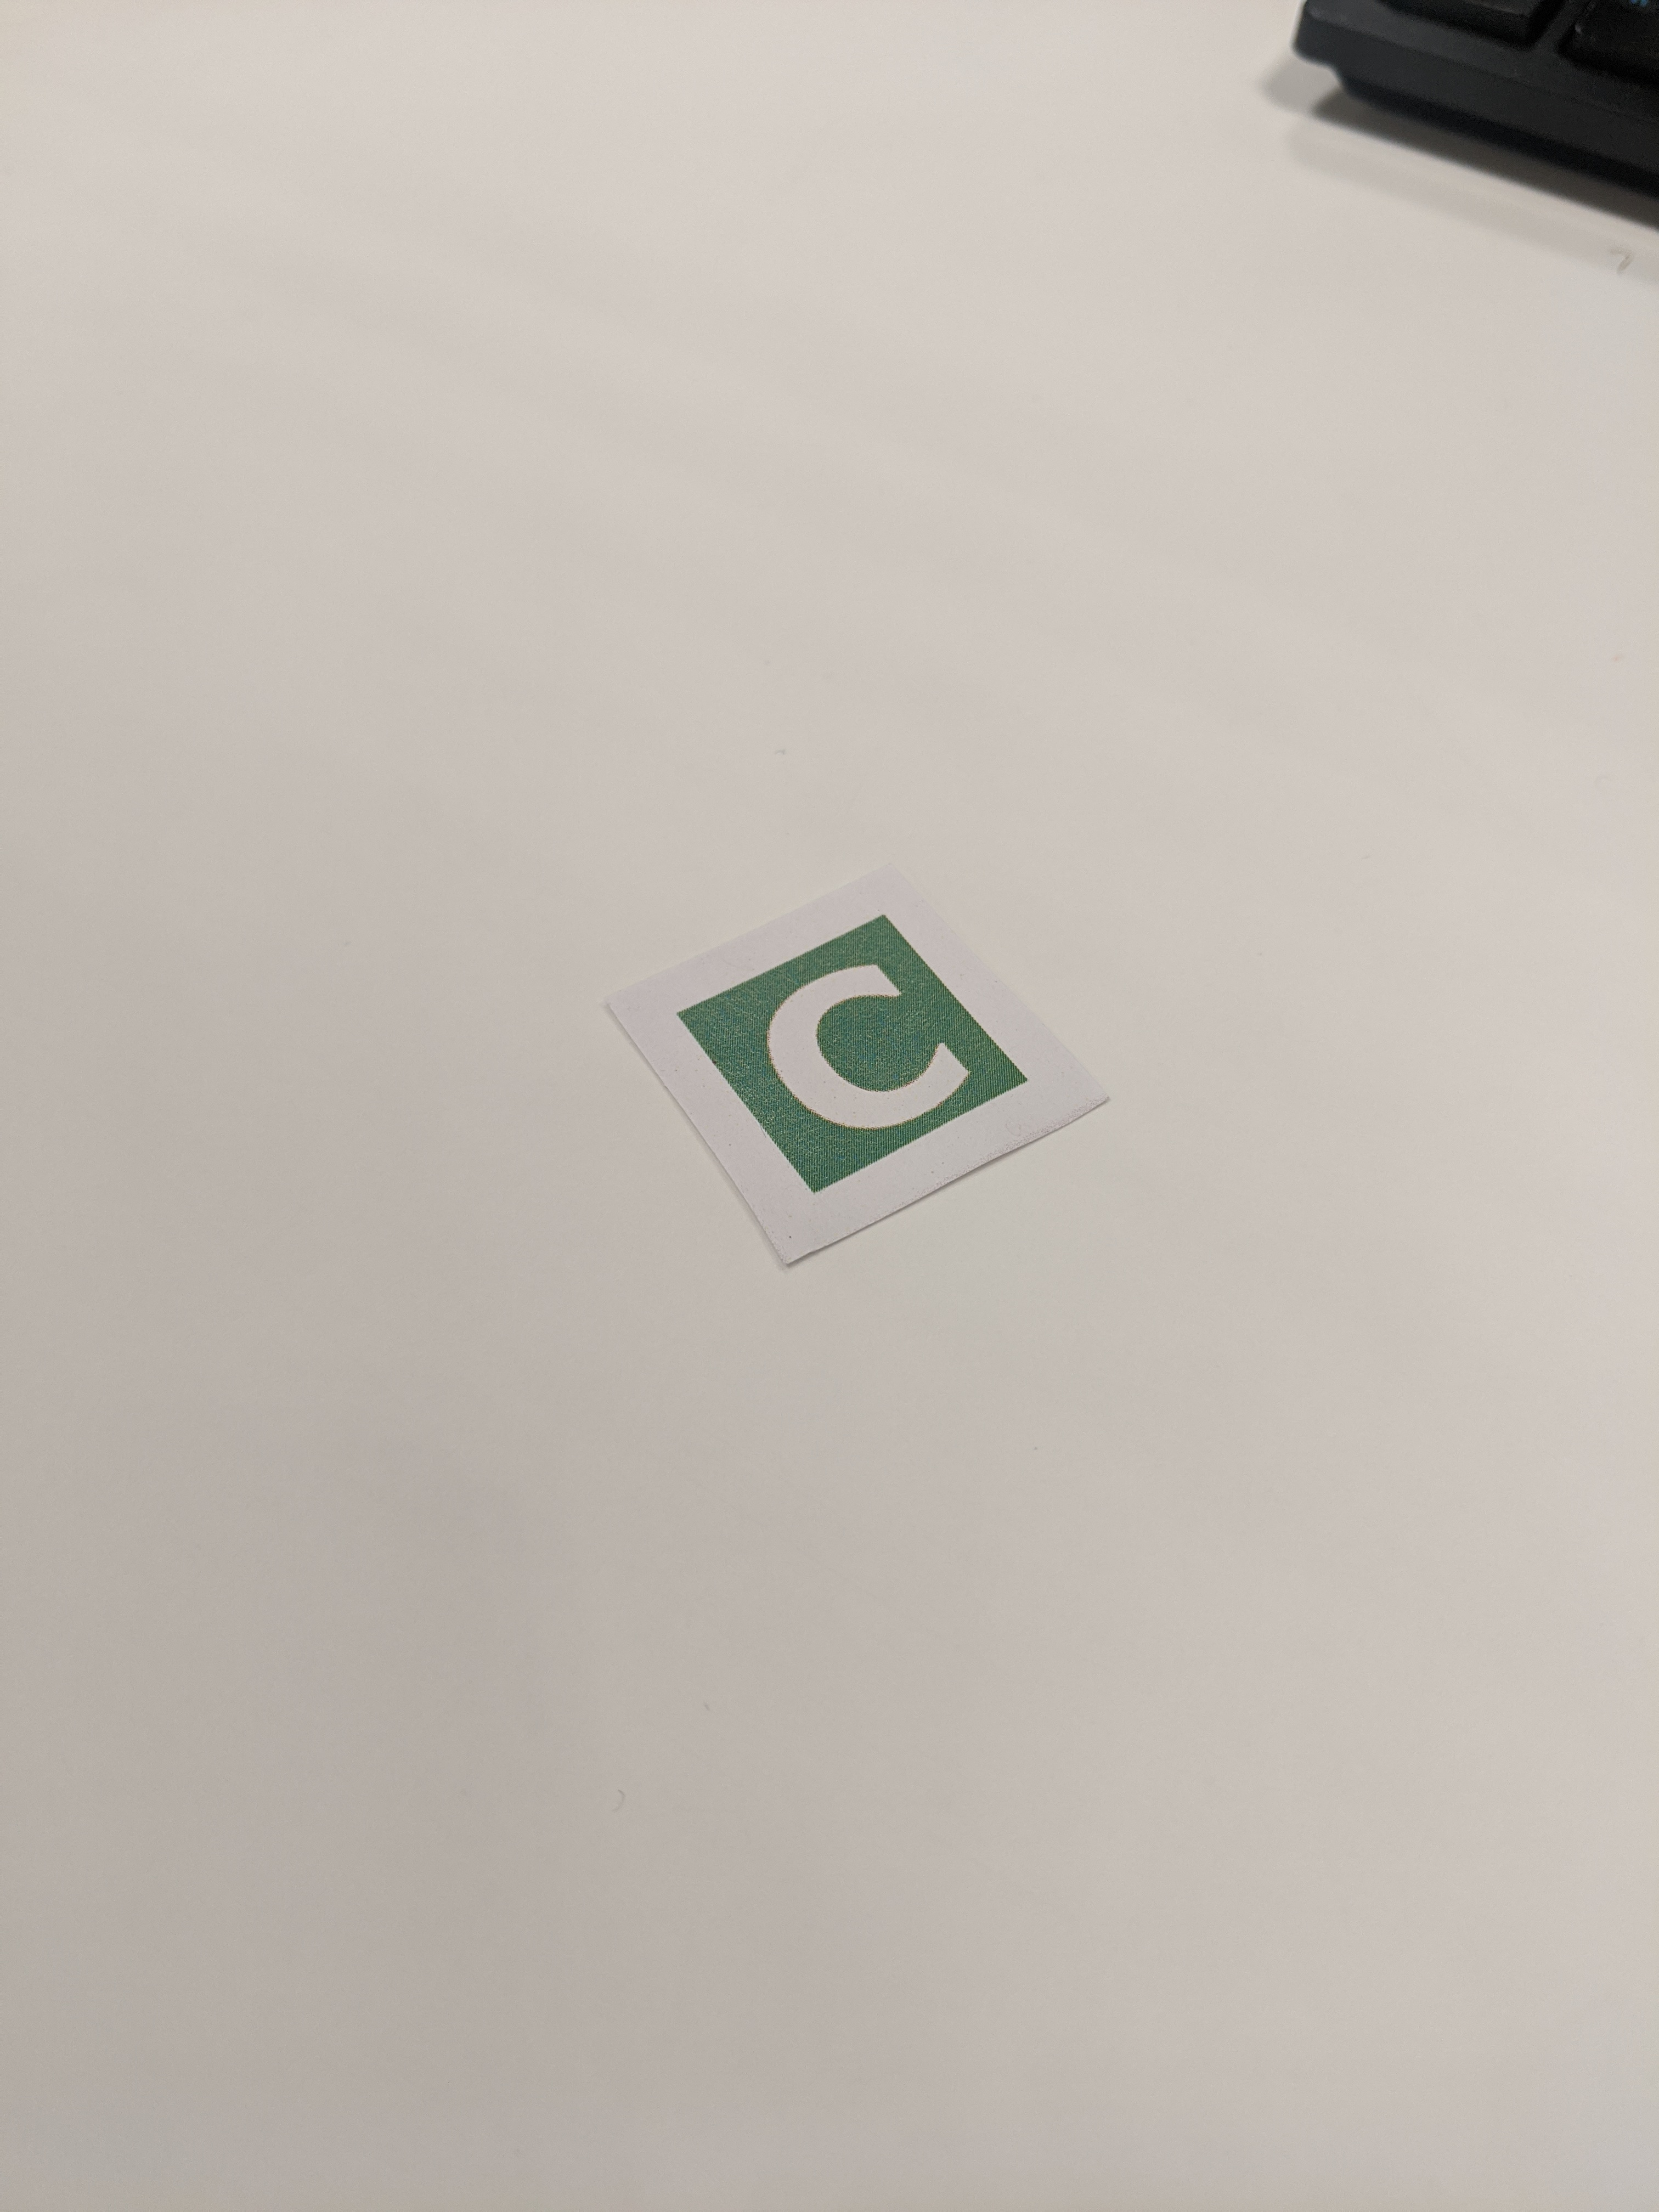marker: (608, 887, 1105, 1263)
